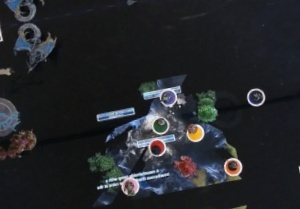blue: (245, 84, 269, 110)
green: (149, 115, 172, 135)
orange: (221, 154, 246, 176)
pink: (119, 173, 141, 197)
red: (145, 135, 168, 158)
violet: (158, 86, 180, 108)
yellow: (183, 119, 206, 144)
